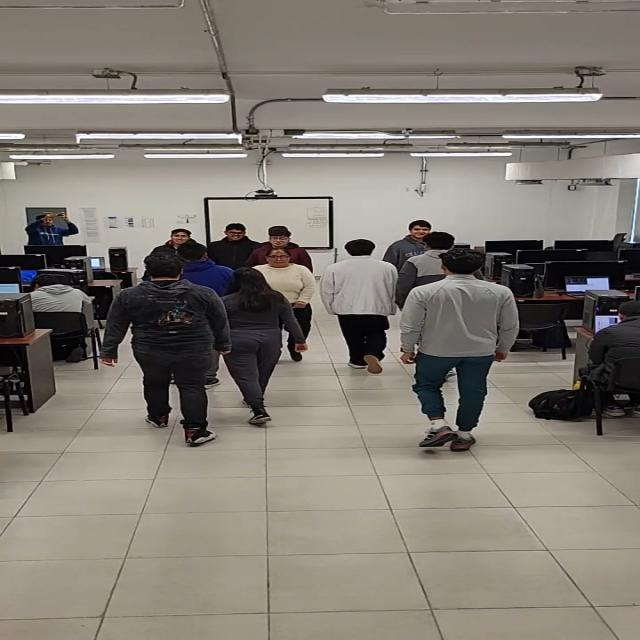Persona: (400, 248, 525, 457), (102, 254, 222, 452), (217, 264, 286, 428), (321, 238, 398, 375), (268, 248, 319, 358)
